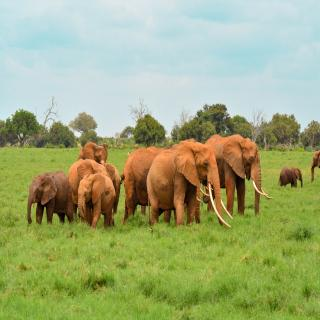Elephant: (146, 140, 234, 231), (208, 131, 274, 219), (26, 168, 76, 226), (76, 174, 117, 232)
